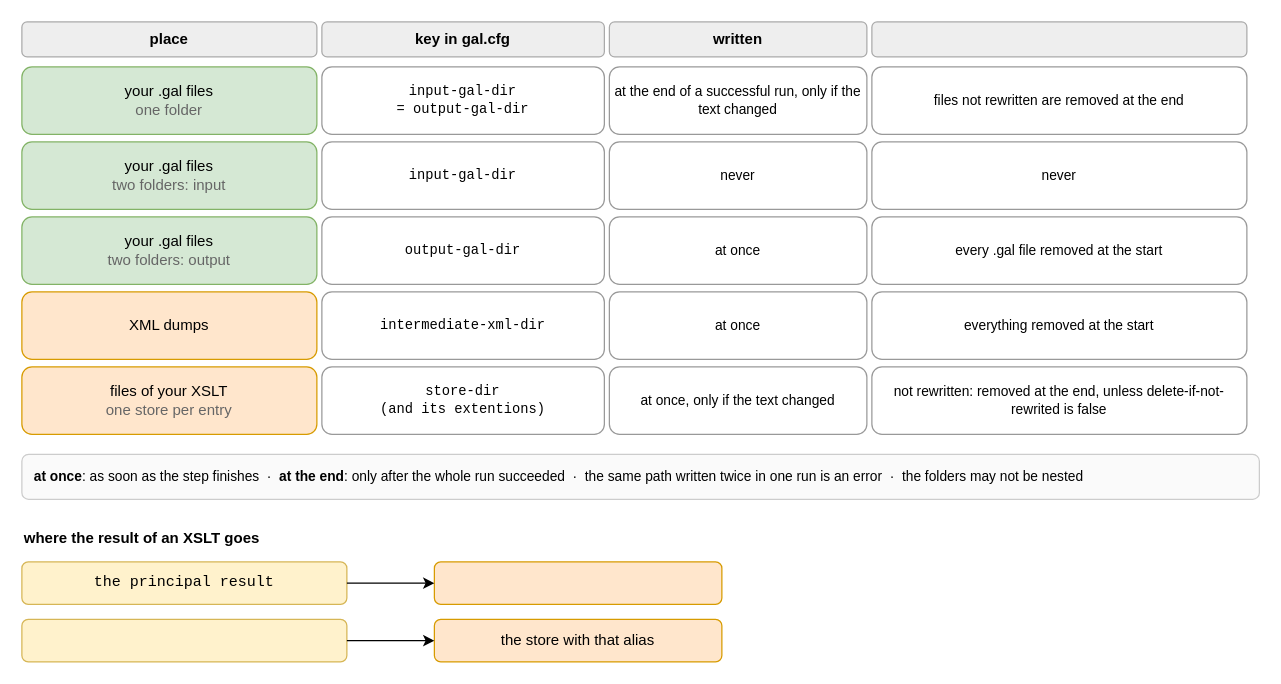
Image size: 1281x684. Some labels were removed from this diagram. Here are the shapes that lost their labels. From the top down, the centre of each, then its label:
point (1059, 39): cleaned
point (577, 582): the intermediate folder
point (184, 640): href="@@alias@@path@@"
